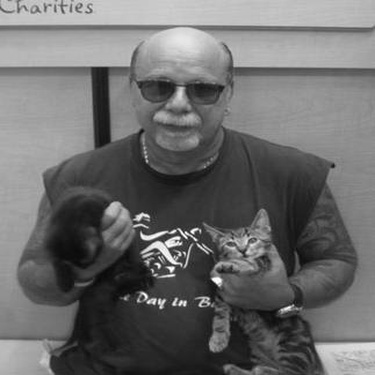cat: (203, 204, 324, 369), (47, 184, 160, 352)
